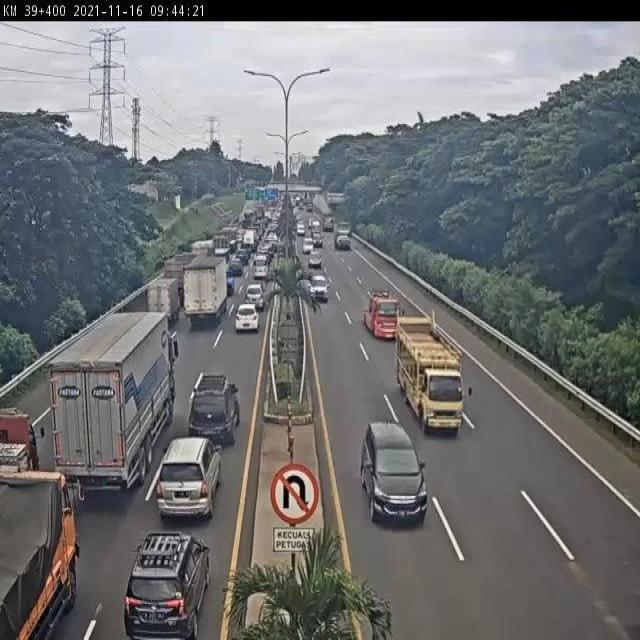Car: (124, 530, 210, 638), (360, 422, 428, 525), (155, 436, 224, 522), (188, 373, 241, 447), (235, 302, 260, 333), (245, 283, 265, 311), (309, 274, 329, 302), (228, 257, 244, 277), (253, 263, 269, 280), (308, 251, 322, 269), (237, 248, 251, 264), (302, 238, 314, 254), (312, 233, 323, 248), (296, 224, 306, 237)
Truck: (46, 311, 180, 500), (0, 469, 79, 640), (395, 310, 465, 433), (182, 253, 228, 327), (0, 407, 46, 473), (361, 287, 405, 341), (163, 251, 196, 305), (146, 275, 178, 321), (334, 220, 354, 252), (212, 234, 230, 258), (190, 239, 213, 254), (243, 230, 257, 252), (322, 212, 335, 232)
